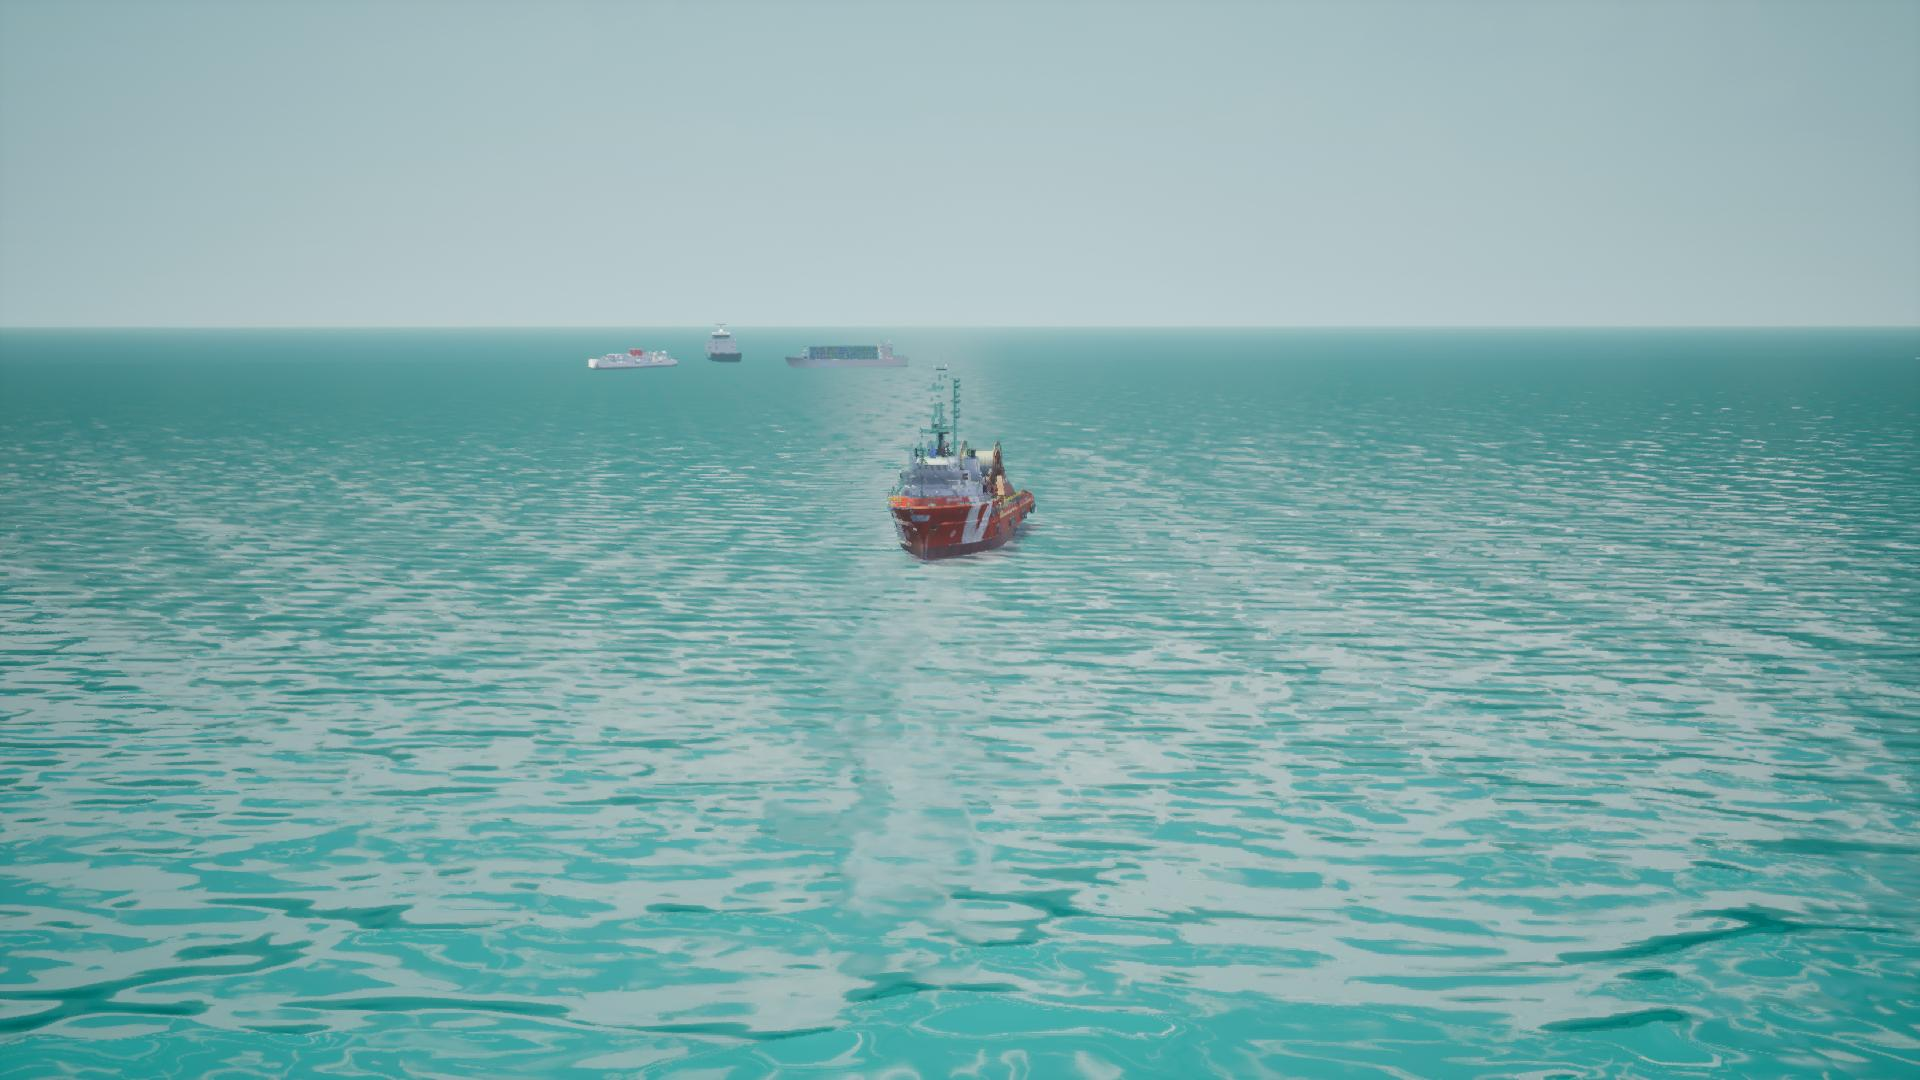Tug Boat: (884, 359, 1033, 566)
